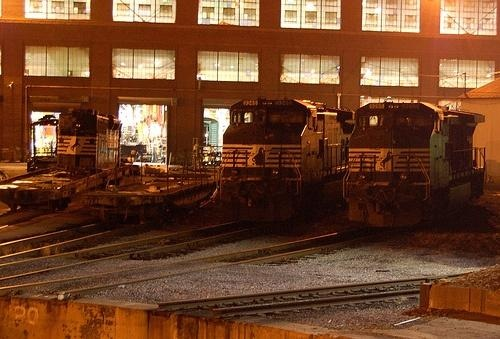train: (346, 99, 490, 230), (218, 98, 355, 226), (1, 109, 125, 202)
